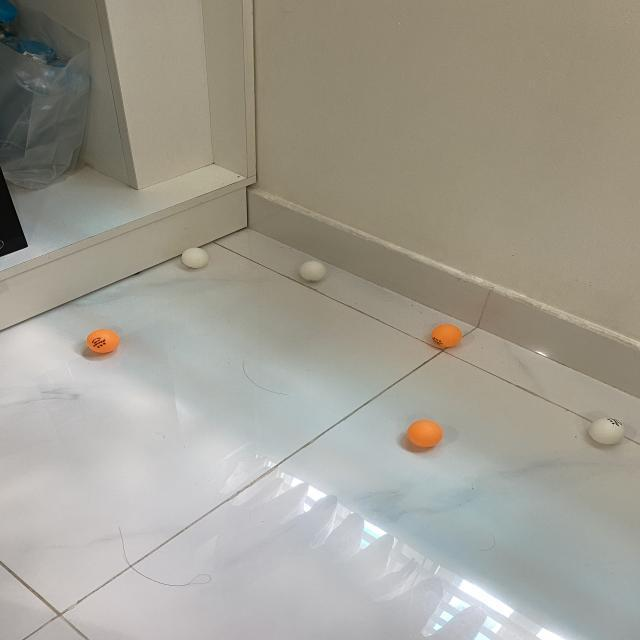ping-pong-ball: (591, 416, 626, 446), (408, 420, 442, 447), (432, 322, 464, 348), (86, 329, 122, 352), (182, 246, 210, 268), (298, 260, 326, 282)
